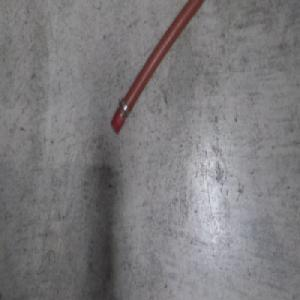Hose: (109, 0, 205, 137)
